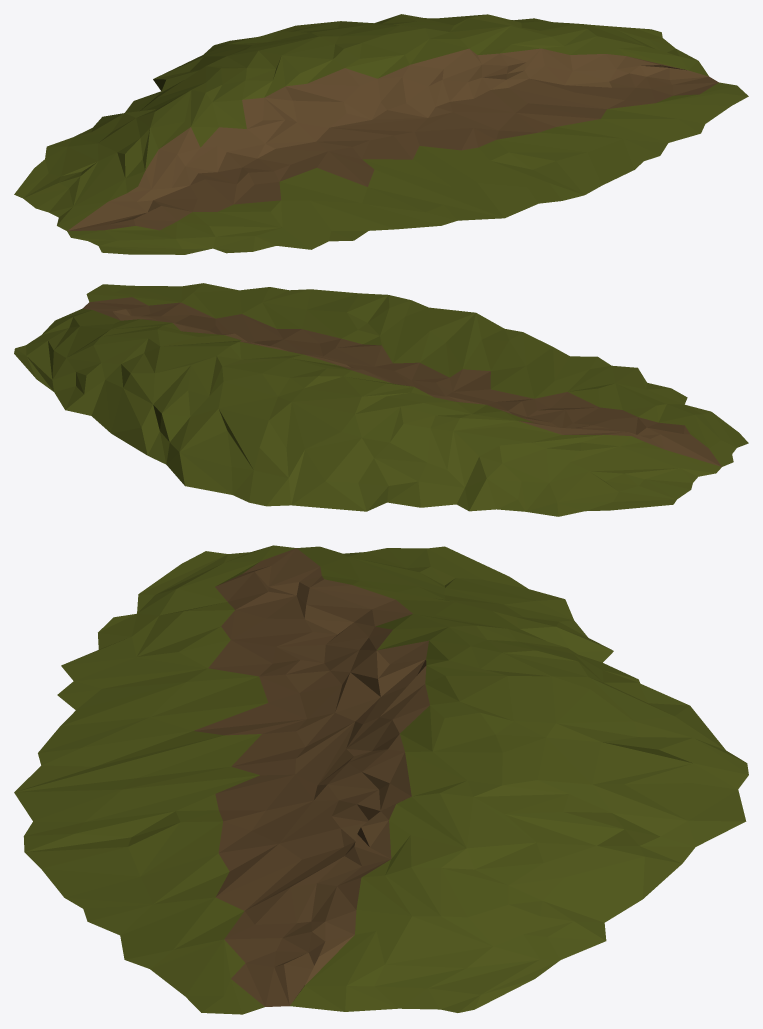
The model's file is SM_grassHill_01.glb.
3 renders of one model, top to bottom at view 1: azimuth 30°, elevation 25°; view 2: azimuth 150°, elevation 25°; view 3: azimuth 270°, elevation 25°, orthographic. The views are drawn at different scales.
Parts seen in each view (by area): view 1: SM_grassHill_01; view 2: SM_grassHill_01; view 3: SM_grassHill_01.
Boxes of the visible parts, x1=… form: SM_grassHill_01: x1=14, y1=14, x2=748, y2=254; SM_grassHill_01: x1=14, y1=283, x2=748, y2=516; SM_grassHill_01: x1=14, y1=545, x2=748, y2=1014.
Size of the model in its own units: 97.5 by 7.61 by 64.55.
Materials: 1 (1 with a texture image).
